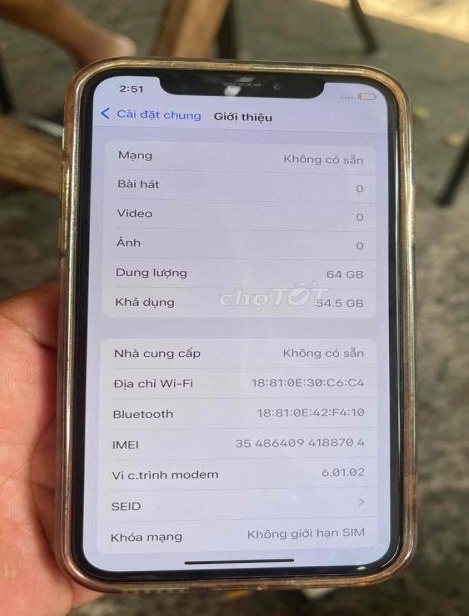scratch: (383, 93, 408, 140), (214, 72, 292, 85)
